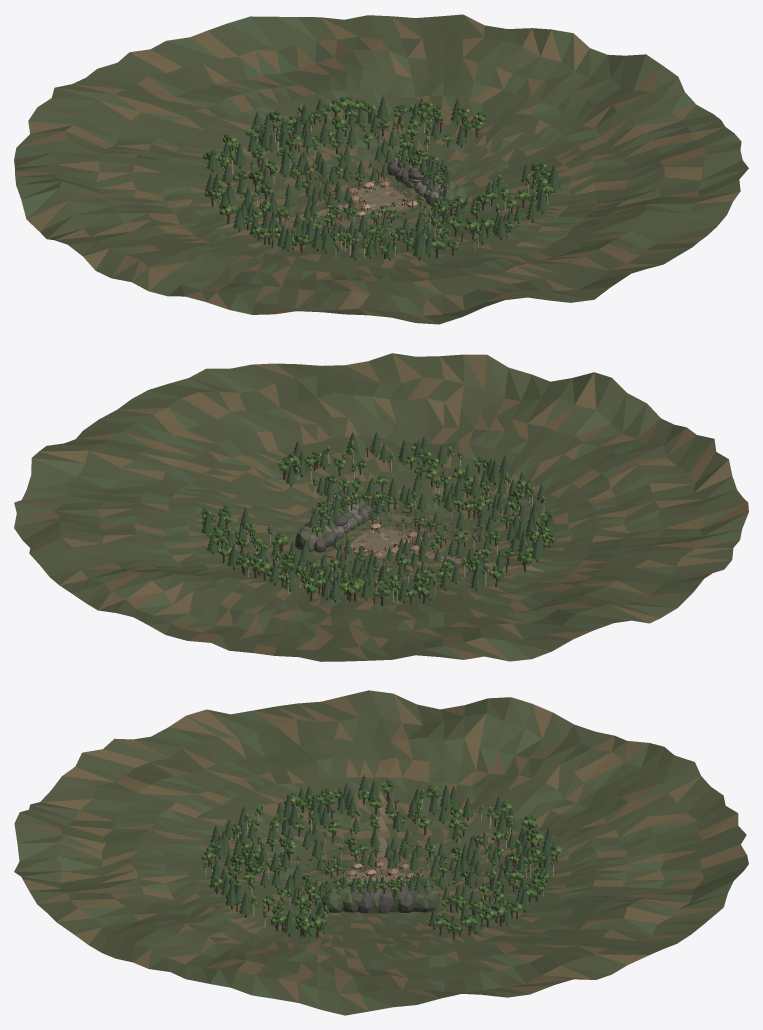
Rendered from kesergo.glb.
3 views of the same model, one above another, from view 1: azimuth 30°, elevation 25°; view 2: azimuth 150°, elevation 25°; view 3: azimuth 270°, elevation 25° (orthographic).
Parts seen in each view (by area): view 1: batch_forest_floor, batch_litter, batch_moss, batch_far_pine_needle, batch_far_leaf_deep, batch_far_leaf_green, batch_far_leaf_young, batch_far_bark, batch_packed_earth, batch_far_birch_bark, batch_far_moss, batch_far_cliff_dark; view 2: batch_forest_floor, batch_litter, batch_moss, batch_far_pine_needle, batch_far_leaf_green, batch_far_leaf_deep, batch_far_leaf_young, batch_far_bark, batch_packed_earth, batch_far_birch_bark, batch_far_cliff_dark; view 3: batch_forest_floor, batch_litter, batch_moss, batch_far_pine_needle, batch_far_leaf_green, batch_far_leaf_deep, batch_far_leaf_young, batch_far_bark, batch_far_moss, batch_far_cliff_dark, batch_packed_earth, batch_far_birch_bark.
Part boxes in pixels (x1=…): batch_forest_floor: x1=14, y1=14, x2=748, y2=324; batch_litter: x1=15, y1=15, x2=740, y2=323; batch_moss: x1=14, y1=16, x2=747, y2=315; batch_far_pine_needle: x1=206, y1=96, x2=559, y2=254; batch_far_leaf_deep: x1=205, y1=96, x2=561, y2=258; batch_far_leaf_green: x1=202, y1=99, x2=554, y2=252; batch_far_leaf_young: x1=211, y1=102, x2=548, y2=249; batch_far_bark: x1=208, y1=108, x2=554, y2=260; batch_packed_earth: x1=216, y1=184, x2=410, y2=228; batch_far_birch_bark: x1=219, y1=111, x2=548, y2=257; batch_far_moss: x1=323, y1=149, x2=467, y2=222; batch_far_cliff_dark: x1=387, y1=157, x2=451, y2=206; batch_forest_floor: x1=14, y1=353, x2=748, y2=661; batch_litter: x1=15, y1=353, x2=748, y2=661; batch_moss: x1=14, y1=369, x2=746, y2=661; batch_far_pine_needle: x1=202, y1=431, x2=555, y2=596; batch_far_leaf_green: x1=201, y1=442, x2=555, y2=596; batch_far_leaf_deep: x1=201, y1=442, x2=556, y2=601; batch_far_leaf_young: x1=203, y1=441, x2=553, y2=595; batch_far_bark: x1=207, y1=446, x2=553, y2=606; batch_packed_earth: x1=350, y1=527, x2=543, y2=571; batch_far_birch_bark: x1=236, y1=450, x2=544, y2=602; batch_far_cliff_dark: x1=304, y1=499, x2=372, y2=552; batch_forest_floor: x1=14, y1=690, x2=748, y2=1015; batch_litter: x1=16, y1=694, x2=746, y2=1010; batch_moss: x1=17, y1=697, x2=748, y2=1011; batch_far_pine_needle: x1=210, y1=774, x2=554, y2=929; batch_far_leaf_green: x1=202, y1=782, x2=563, y2=931; batch_far_leaf_deep: x1=204, y1=779, x2=558, y2=934; batch_far_leaf_young: x1=205, y1=782, x2=561, y2=927; batch_far_bark: x1=207, y1=792, x2=557, y2=939; batch_far_moss: x1=311, y1=868, x2=439, y2=913; batch_far_cliff_dark: x1=336, y1=886, x2=429, y2=913; batch_packed_earth: x1=348, y1=792, x2=409, y2=890; batch_far_birch_bark: x1=205, y1=799, x2=553, y2=930.
Bounding box in the file's own units: 125 × 10.29 × 125.
